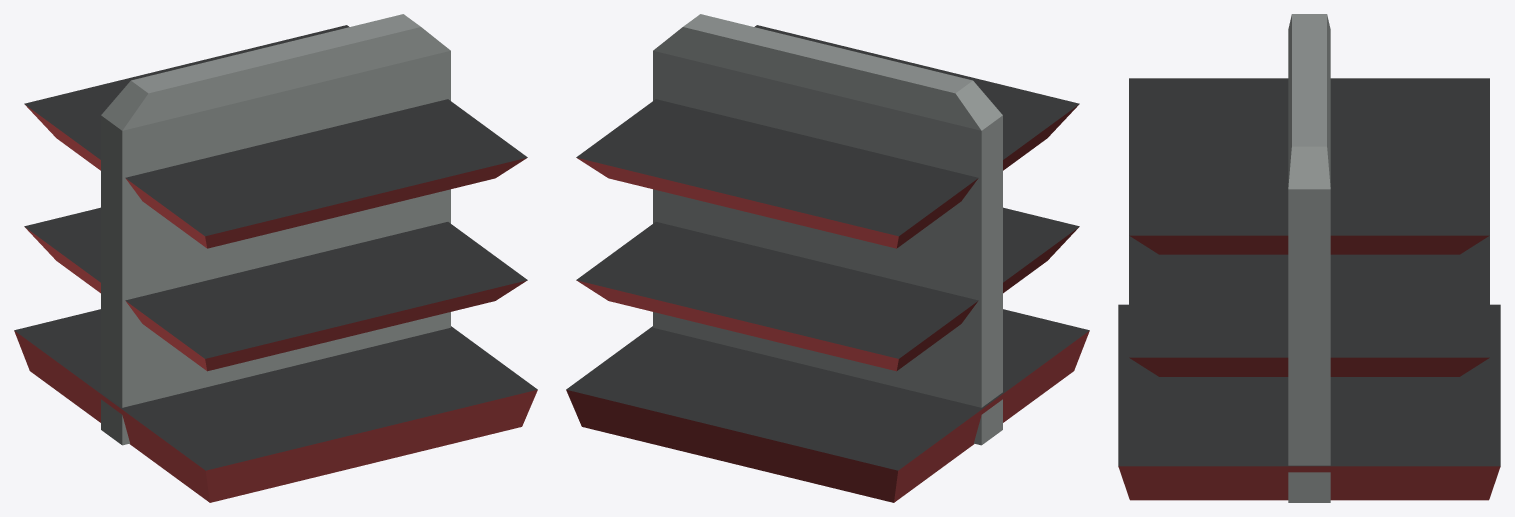
Rendered from selfs.fbx.
3 renders of one model, left to right at view 1: azimuth 30°, elevation 25°; view 2: azimuth 150°, elevation 25°; view 3: azimuth 270°, elevation 25°, orthographic.
Parts seen in each view (by area): view 1: selfs; view 2: selfs; view 3: selfs.
Part boxes in pixels (box(x1,y1,x2,y2)): selfs: box(14, 14, 537, 502); selfs: box(566, 14, 1089, 502); selfs: box(1118, 14, 1500, 502).
Bounding box in the file's own units: 202 × 201 × 202.
